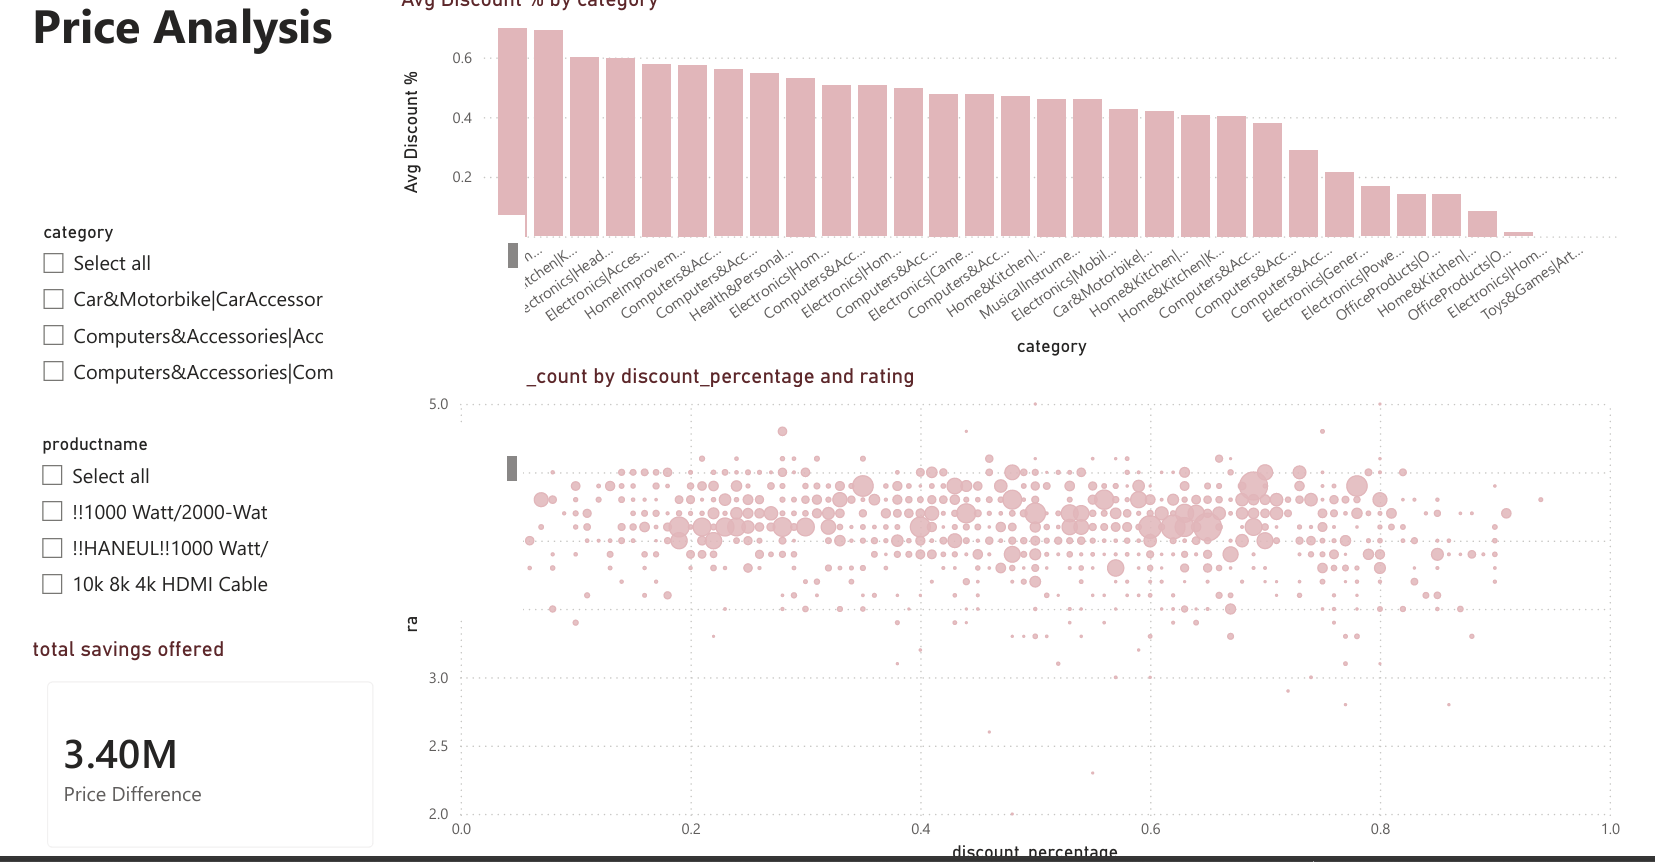

The dashboard page shown, as its layout file describes it:
{"tool":"powerbi","page":{"name":"Page 3","canvas":[1280,720],"ordinal":2},"visuals":[{"type":"scatterChart","fields":{"X":["amazon.discount_percentage"],"Y":["amazon.rating"],"Size":["Sum(amazon.rating_count)"]},"box":[295.1,315.4,985.2,405.1],"z":0},{"type":"clusteredColumnChart","fields":{"Y":["amazon.Avg Discount %"],"Category":["amazon.category"]},"box":[295.1,14.5,985.2,300.9],"z":1},{"type":"cardVisual","title":"total savings offered","fields":{"Data":["amazon.Price Difference"]},"box":[0,533.8,295.1,186.6],"z":2},{"type":"slicer","fields":{"Values":["amazon.productname"]},"box":[0,367.5,397.8,150.5],"z":3},{"type":"slicer","fields":{"Values":["amazon.category"]},"box":[1.4,196.7,397.8,140.3],"z":4},{"type":"textbox","box":[0,14.5,282.1,150.5],"z":5}]}

Visuals, with their boxes on the page's 1280x720 design canvas (x1, y1, x2, y2). These are canvas units, not pixel positions in the 1655x862 screenshot, which may show the page scaled, cropped or inside an application window:
scatterChart - amazon.discount_percentage x amazon.rating: l=295, t=315, r=1280, b=720
clusteredColumnChart - amazon.Avg Discount % x amazon.category: l=295, t=14, r=1280, b=315
"total savings offered" cardVisual: l=0, t=534, r=295, b=720
slicer - amazon.productname: l=0, t=368, r=398, b=518
slicer - amazon.category: l=1, t=197, r=399, b=337
textbox: l=0, t=14, r=282, b=165
